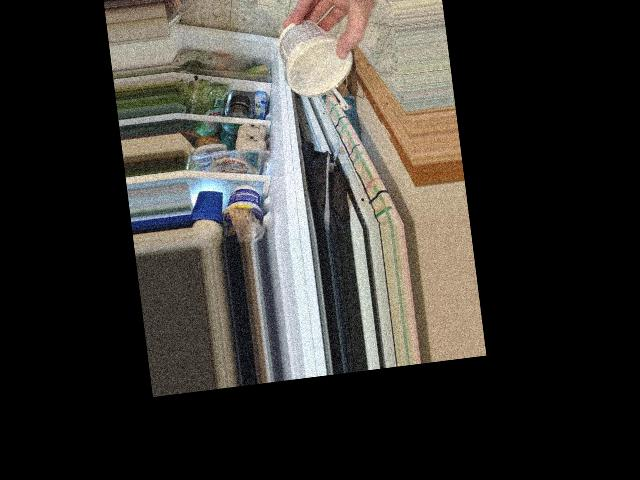cotage: (276, 8, 363, 97)
